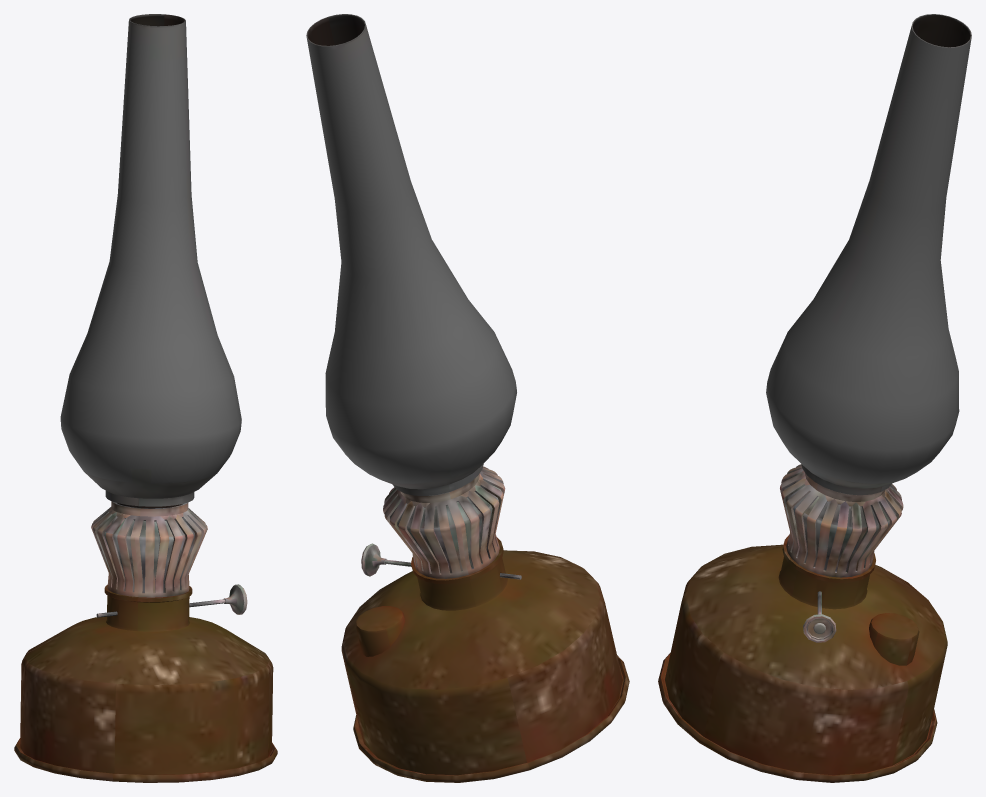
Rendered from obj_kerosene_lamp_2.glb.
3 views of the same model, side by side, from view 1: azimuth 30°, elevation 25°; view 2: azimuth 150°, elevation 25°; view 3: azimuth 270°, elevation 25° (orthographic). The views are drawn at different scales.
Visible parts, largest first — view 1: Kerosene Lmap_low_base_0; view 2: Kerosene Lmap_low_base_0; view 3: Kerosene Lmap_low_base_0.
Part boxes in pixels (x1,y1,x2,y2): Kerosene Lmap_low_base_0: [14, 14, 277, 782]; Kerosene Lmap_low_base_0: [306, 14, 629, 782]; Kerosene Lmap_low_base_0: [658, 14, 971, 782].
Bounding box in the file's own units: 0.1456 × 0.42 × 0.1594.
3 materials, 3 textured.
